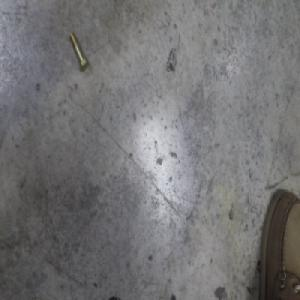Bolt: (67, 31, 88, 75)
